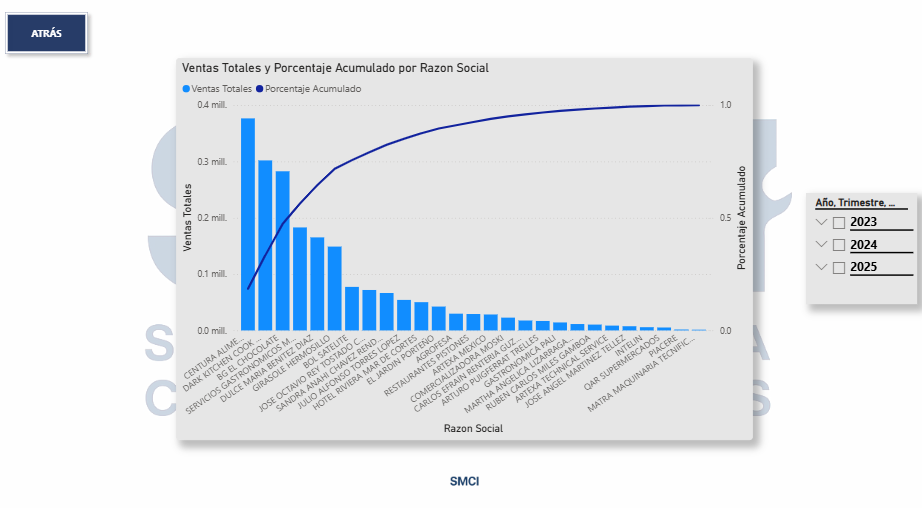

The page's visual inventory and layout, read from the dashboard file:
{"tool":"powerbi","page":{"name":"Mayores ventas","canvas":[1280,720],"ordinal":1},"visuals":[{"type":"treemap","fields":{"Values":["Sum(Facturas Emitidas.Total)"],"Group":["Facturas Emitidas.Razon Social"]},"box":[43.7,72.2,596.3,490.5],"z":0},{"type":"slicer","fields":{"Values":["Facturas Emitidas.Fecha.Variación.Jerarquía de fechas.Año","Facturas Emitidas.Fecha.Variación.Jerarquía de fechas.Trimestre","Facturas Emitidas.Fecha.Variación.Jerarquía de fechas.Mes","Facturas Emitidas.Fecha.Variación.Jerarquía de fechas.Día"]},"box":[782.8,211.7,240.2,147.8],"z":1000}]}

Visuals, with their boxes in screenshot pixels (x1, y1, x2, y2), scaled from the page's 1280x720 canvas onto the 922x508 screenshot:
treemap - Sum(Facturas Emitidas.Total) x Facturas Emitidas.Razon Social: rect(31, 51, 461, 397)
slicer - Facturas Emitidas.Fecha.Variación.Jerarquía de fechas.Año x Facturas Emitidas.Fecha.Variación.Jerarquía de fechas.Trimestre: rect(564, 149, 737, 254)
